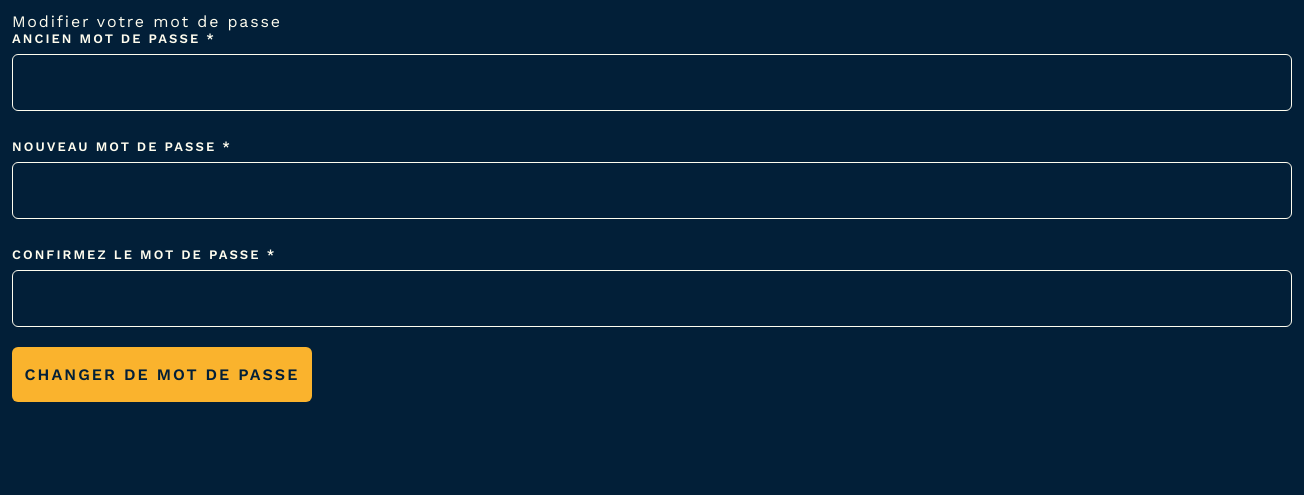
Scenario: UpdateProfileForm component tests › should successfully update user password
The width and height of the screenshot is (1304, 495).
Type "awesomePassword" into the password field labelled "Ancien mot de passe *". click: (652, 82)
box: [12,54,1292,111]
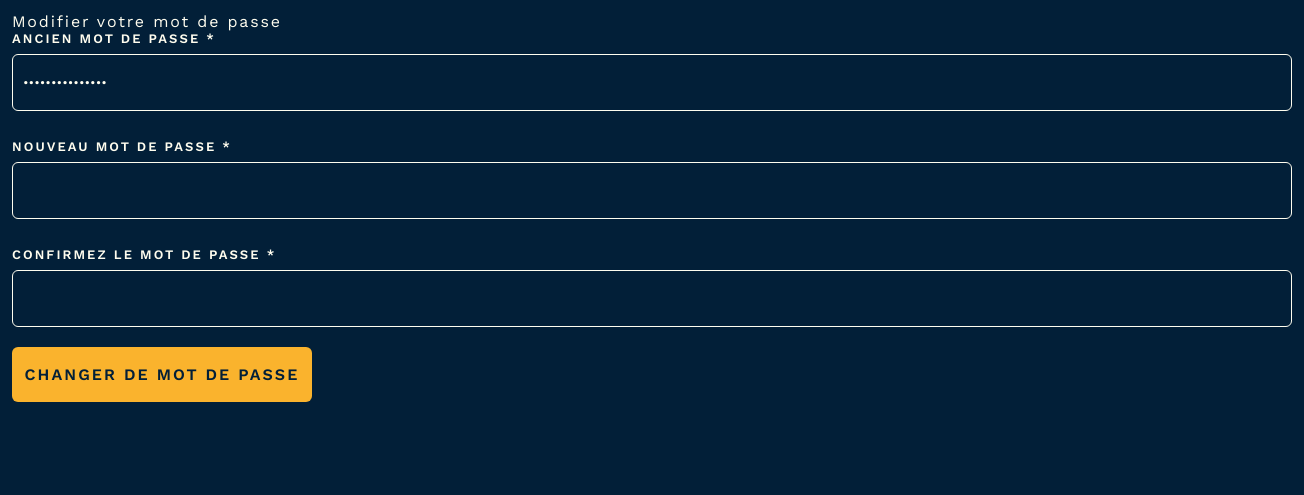
Type "123456789" into the password field labelled "Nouveau mot de passe *". click: (652, 190)
box: [12,162,1292,219]
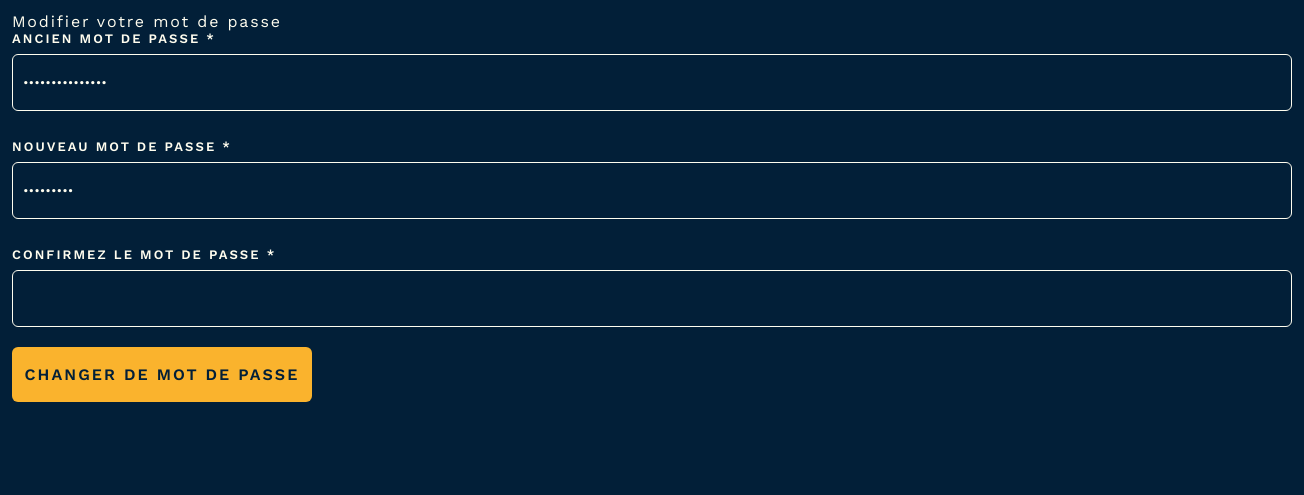
Type "123456789" into the password field labelled "Confirmez le mot de passe *". click: (652, 298)
box: [12,270,1292,327]
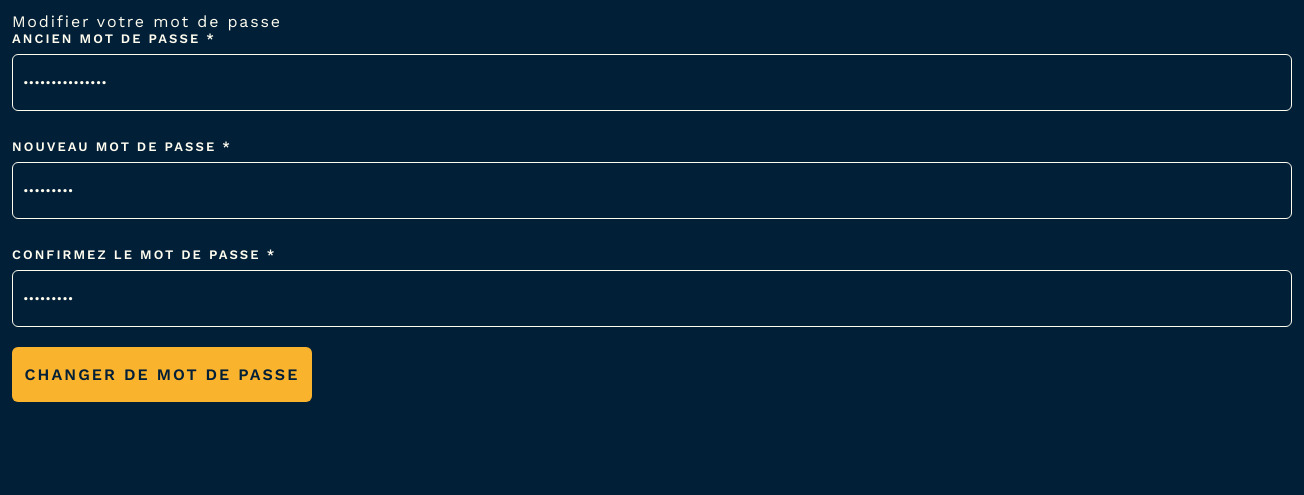
Click the button "Changer de mot de passe". click: (162, 374)
box: [12,347,312,402]
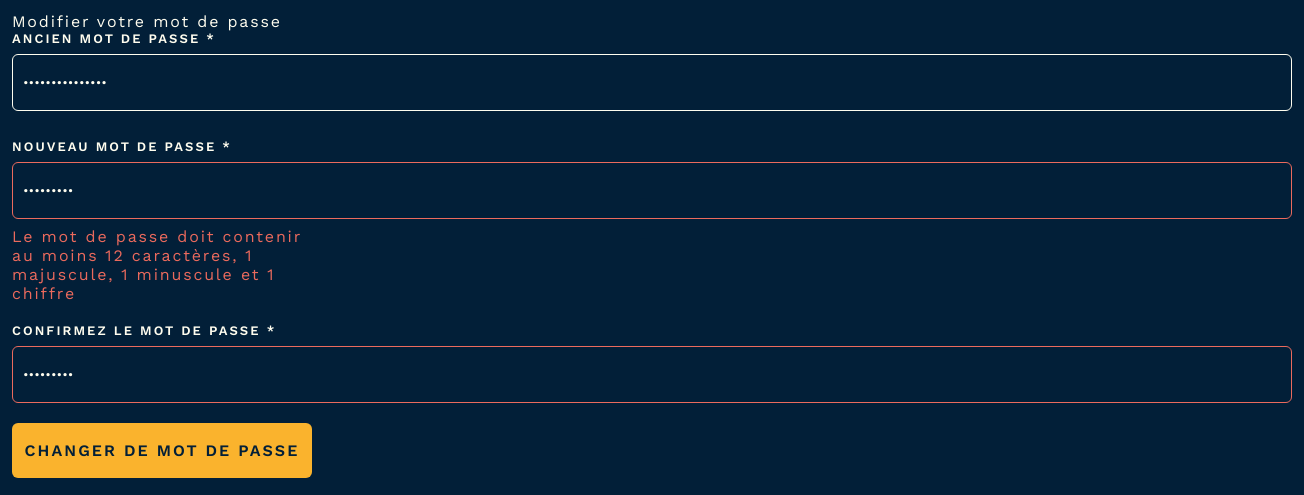
expect the text "Le mot de passe doit contenir au moins 12 caractères, 1 majuscule, 1 minuscule et 1 chiffre" is shown: met, box [12,227,302,303]
